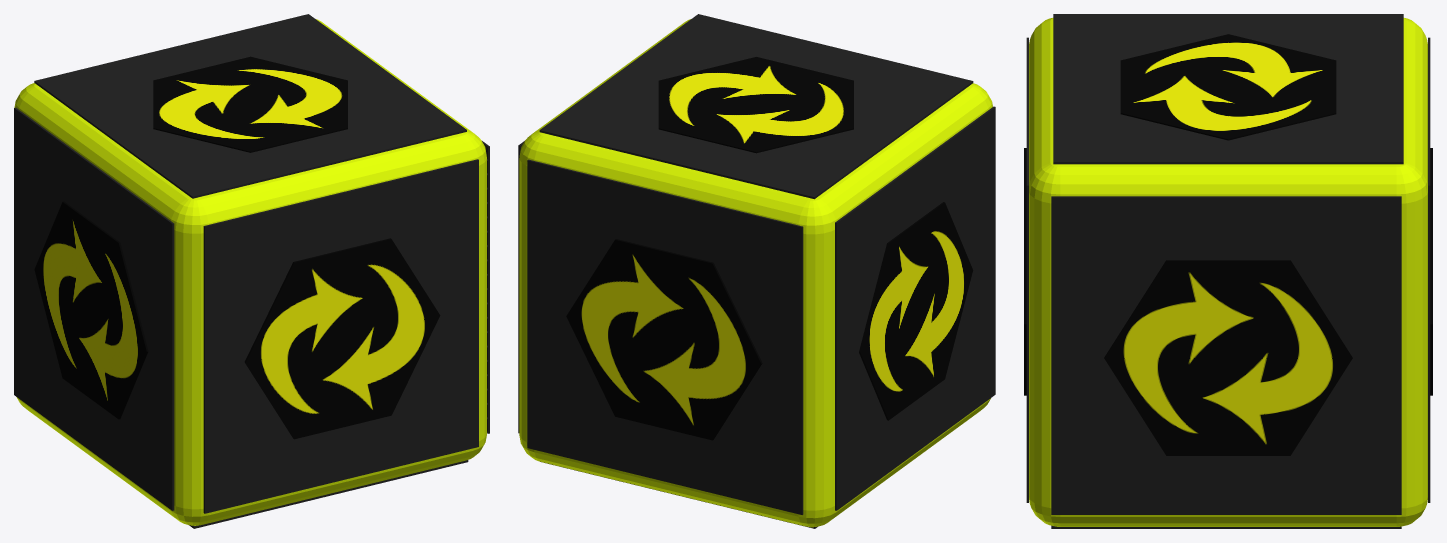
The model's file is power-down-switch-entwickelt (1).fbx.
The picture shows the model from 3 angles, left to right: view 1: azimuth 30°, elevation 25°; view 2: azimuth 150°, elevation 25°; view 3: azimuth 270°, elevation 25°; orthographic projection. The views are drawn at different scales.
Visible parts, largest first — view 1: Icon_fläche_1; view 2: Icon_fläche_1; view 3: Icon_fläche_1.
Boxes of the visible parts, bbox=[...] form: Icon_fläche_1: bbox=[14, 14, 489, 528]; Icon_fläche_1: bbox=[518, 14, 995, 528]; Icon_fläche_1: bbox=[1024, 14, 1432, 528].
Bounding box in the file's own units: 204 × 204 × 204.
Materials: 3 (1 with a texture image).
